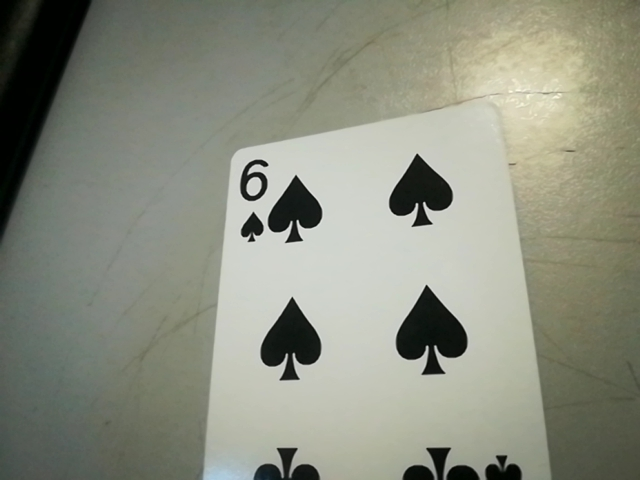ht 6: (224, 154, 279, 247)
